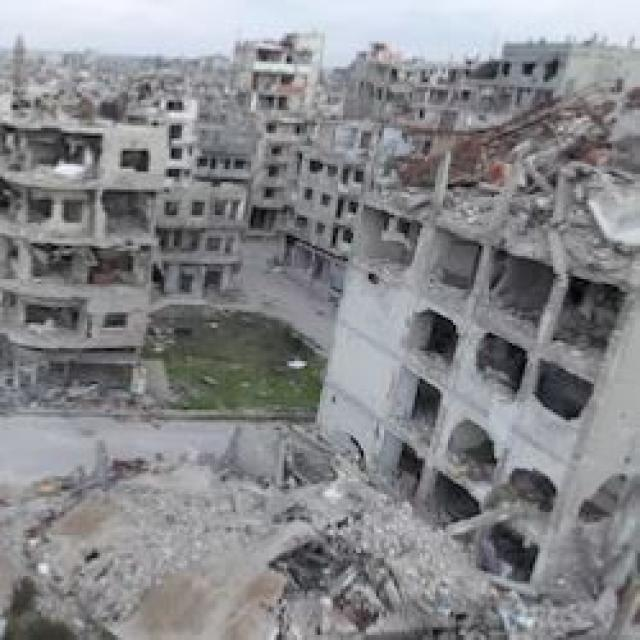collapsed_building: (340, 95, 638, 571)
